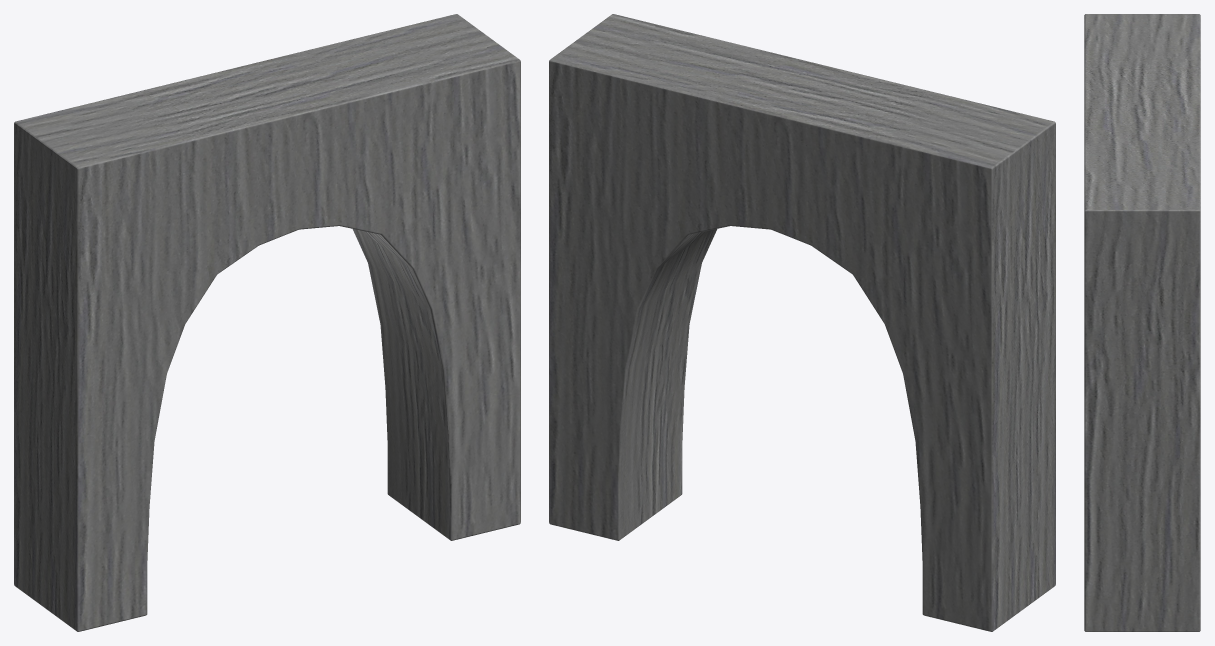
File: ArchwayBlock002.obj
3 views of the same model, side by side, from view 1: azimuth 30°, elevation 25°; view 2: azimuth 150°, elevation 25°; view 3: azimuth 270°, elevation 25° (orthographic). The views are drawn at different scales.
Visible parts, largest first — view 1: pCube1; view 2: pCube1; view 3: pCube1.
Part boxes in pixels (bbox=[...]): pCube1: bbox=[14, 14, 520, 631]; pCube1: bbox=[549, 14, 1055, 631]; pCube1: bbox=[1084, 14, 1200, 631].
Bounding box in the file's own units: 400 × 400 × 100.
2 materials, 2 textured.
